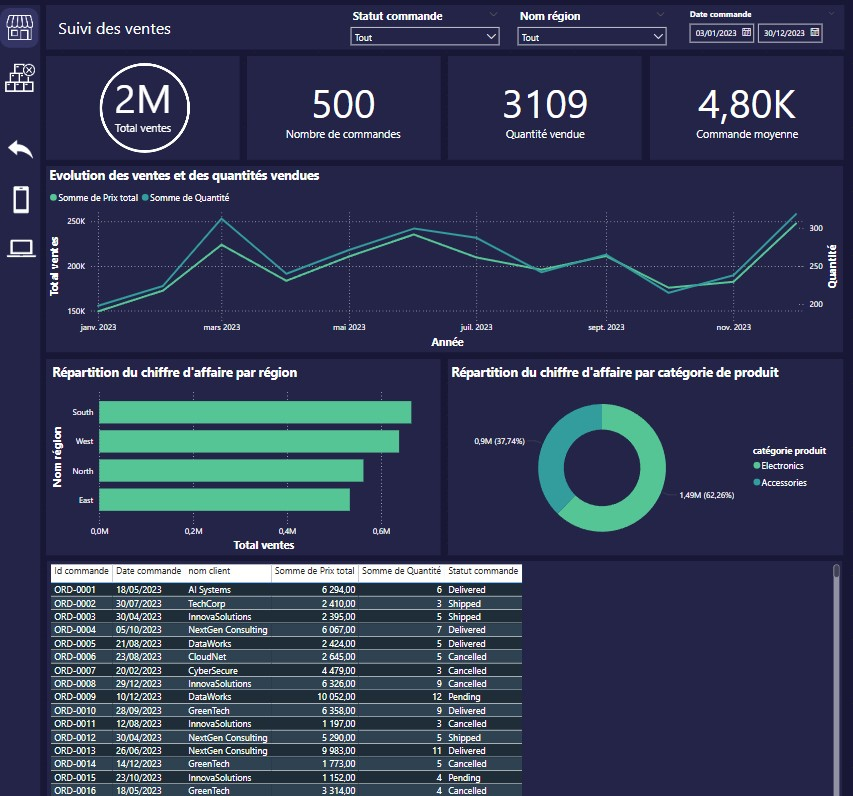

The dashboard page shown, as its layout file describes it:
{"tool":"powerbi","page":{"name":"suivi ventes","canvas":[1280,1966],"ordinal":0},"visuals":[{"type":"shape","box":[0,0,96.5,1714.2],"z":0},{"type":"shape","box":[124,0,1156.3,98.9],"z":1000},{"type":"shape","box":[130.8,109.3,270.2,261.6],"z":2000},{"type":"shape","box":[422.4,109.3,270.2,261.6],"z":3000},{"type":"shape","box":[711.8,109.3,270.2,261.6],"z":4000},{"type":"shape","box":[1009.8,109.3,270.2,261.6],"z":5000},{"type":"shape","box":[130.6,408.7,1149.4,351.9],"z":6000},{"type":"shape","box":[130.6,806,581.8,351.9],"z":7000},{"type":"shape","box":[749.3,806,530.7,351.9],"z":8000},{"type":"shape","box":[130.6,1209,1149.4,505.2],"z":9000},{"type":"textbox","box":[132.3,16.7,289.7,54.8],"z":10000},{"type":"card","fields":{"Values":["clients.Total ventes"]},"box":[129.9,110.9,271.8,261.1],"z":11000},{"type":"card","fields":{"Values":["ventes.nombre de commande"]},"box":[421.6,108.7,270.9,261.3],"z":12000},{"type":"card","fields":{"Values":["ventes.Quantite vendue"]},"box":[711.5,110.6,270.9,261.3],"z":13000},{"type":"card","fields":{"Values":["ventes.Commande moyen"]},"box":[1009.1,108.7,270.9,261.3],"z":14000},{"type":"lineChart","title":"Evolution de chifre d''affaire et volume des vente","fields":{"Category":["ventes.OrderDate.Variation.Date Hierarchy.Year","ventes.OrderDate.Variation.Date Hierarchy.Quarter","ventes.OrderDate.Variation.Date Hierarchy.Month"],"Y":["mesure.Total ventes"],"Y2":["mesure.nombre de commande"]},"box":[132.3,407.7,1145.5,351.6],"z":15000},{"type":"barChart","title":"Repartition des chifre d''affaire par region","fields":{"Y":["mesure.Total ventes"],"Category":["regions.RegionName"]},"box":[132.3,807,579.3,352.8],"z":16000},{"type":"donutChart","title":"Repartition du chiffre d''affaire par categorie de produit","fields":{"Category":["produits.Category"],"Y":["mesure.Total ventes"]},"box":[749.8,804.6,530.5,352.8],"z":17000},{"type":"tableEx","fields":{"Values":["ventes.OrderID","ventes.OrderDate","clients.CompanyName","Sum(ventes.TotalPrice)","Sum(ventes.Quantity)","ventes.OrderStatus"]},"box":[131.1,1208.7,1149.1,505.4],"z":18000},{"type":"slicer","fields":{"Values":["regions.RegionName"]},"box":[450.6,0,253.9,98.9],"z":19000},{"type":"slicer","fields":{"Values":["ventes.OrderStatus"]},"box":[711.6,0,253.9,98.9],"z":19001},{"type":"slicer","fields":{"Values":["ventes.OrderDate"]},"box":[1009.6,0,268.2,98.9],"z":19002}]}

Visuals, with their boxes on the page's 1280x1966 design canvas (x1, y1, x2, y2). These are canvas units, not pixel positions in the 853x796 screenshot, which may show the page scaled, cropped or inside an application window:
shape: 0,0,96,1714
shape: 124,0,1280,99
shape: 131,109,401,371
shape: 422,109,693,371
shape: 712,109,982,371
shape: 1010,109,1280,371
shape: 131,409,1280,761
shape: 131,806,712,1158
shape: 749,806,1280,1158
shape: 131,1209,1280,1714
textbox: 132,17,422,72
card - clients.Total ventes: 130,111,402,372
card - ventes.nombre de commande: 422,109,692,370
card - ventes.Quantite vendue: 712,111,982,372
card - ventes.Commande moyen: 1009,109,1280,370
"Evolution de chifre d''affaire et volume des vente" lineChart: 132,408,1278,759
"Repartition des chifre d''affaire par region" barChart: 132,807,712,1160
"Repartition du chiffre d''affaire par categorie de produit" donutChart: 750,805,1280,1157
tableEx - ventes.OrderID x ventes.OrderDate: 131,1209,1280,1714
slicer - regions.RegionName: 451,0,704,99
slicer - ventes.OrderStatus: 712,0,966,99
slicer - ventes.OrderDate: 1010,0,1278,99
